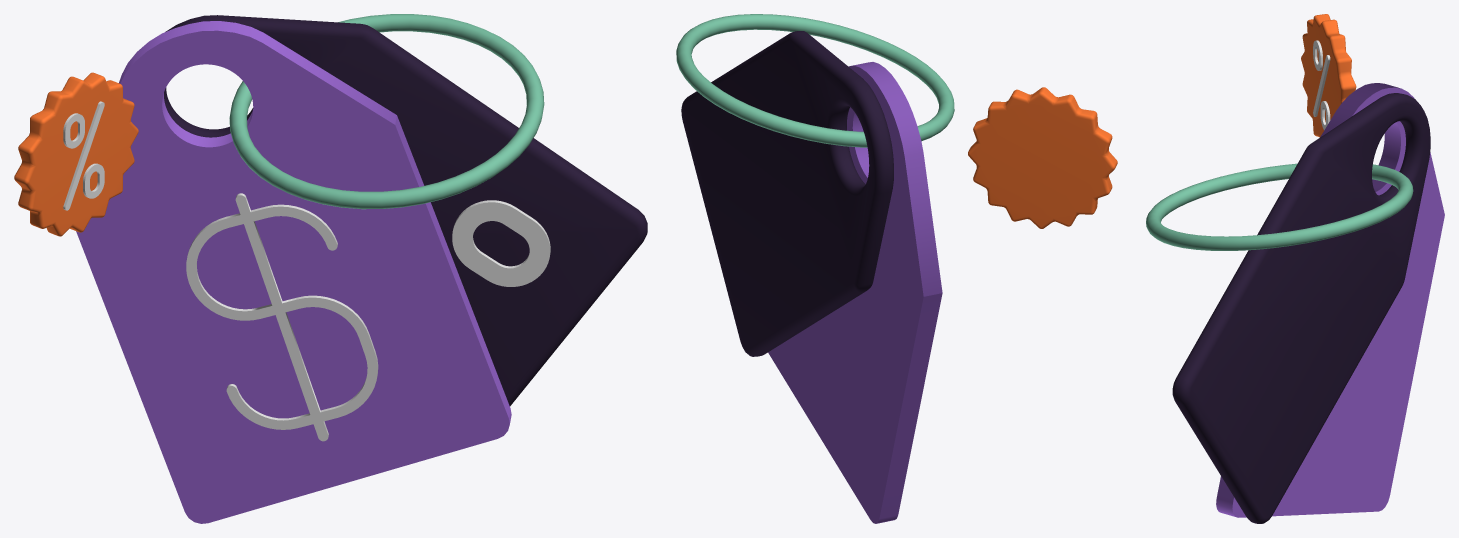
Rendered from pricing-3d-animated-icon-506535295120.glb.
The picture shows the model from 3 angles, left to right: view 1: azimuth 30°, elevation 25°; view 2: azimuth 150°, elevation 25°; view 3: azimuth 270°, elevation 25°; orthographic projection. The views are drawn at different scales.
Parts seen in each view (by area): view 1: Plane, Plane.001, Cylinder.001, BezierCircle; view 2: Plane.001, Plane, Cylinder.001, BezierCircle; view 3: Plane.001, Plane, BezierCircle, Cylinder.001.
Boxes of the visible parts, x1,y1,x2,y2 form: Plane: (76, 21, 511, 523); Plane.001: (164, 15, 647, 406); Cylinder.001: (14, 72, 138, 236); BezierCircle: (229, 14, 544, 209); Plane.001: (681, 31, 893, 356); Plane: (768, 62, 942, 523); Cylinder.001: (968, 87, 1117, 228); BezierCircle: (676, 14, 954, 147); Plane.001: (1172, 93, 1430, 523); Plane: (1216, 83, 1444, 517); BezierCircle: (1146, 163, 1413, 250); Cylinder.001: (1301, 14, 1356, 137).
Size of the model in its own units: 1.66 by 1.42 by 0.9079.
